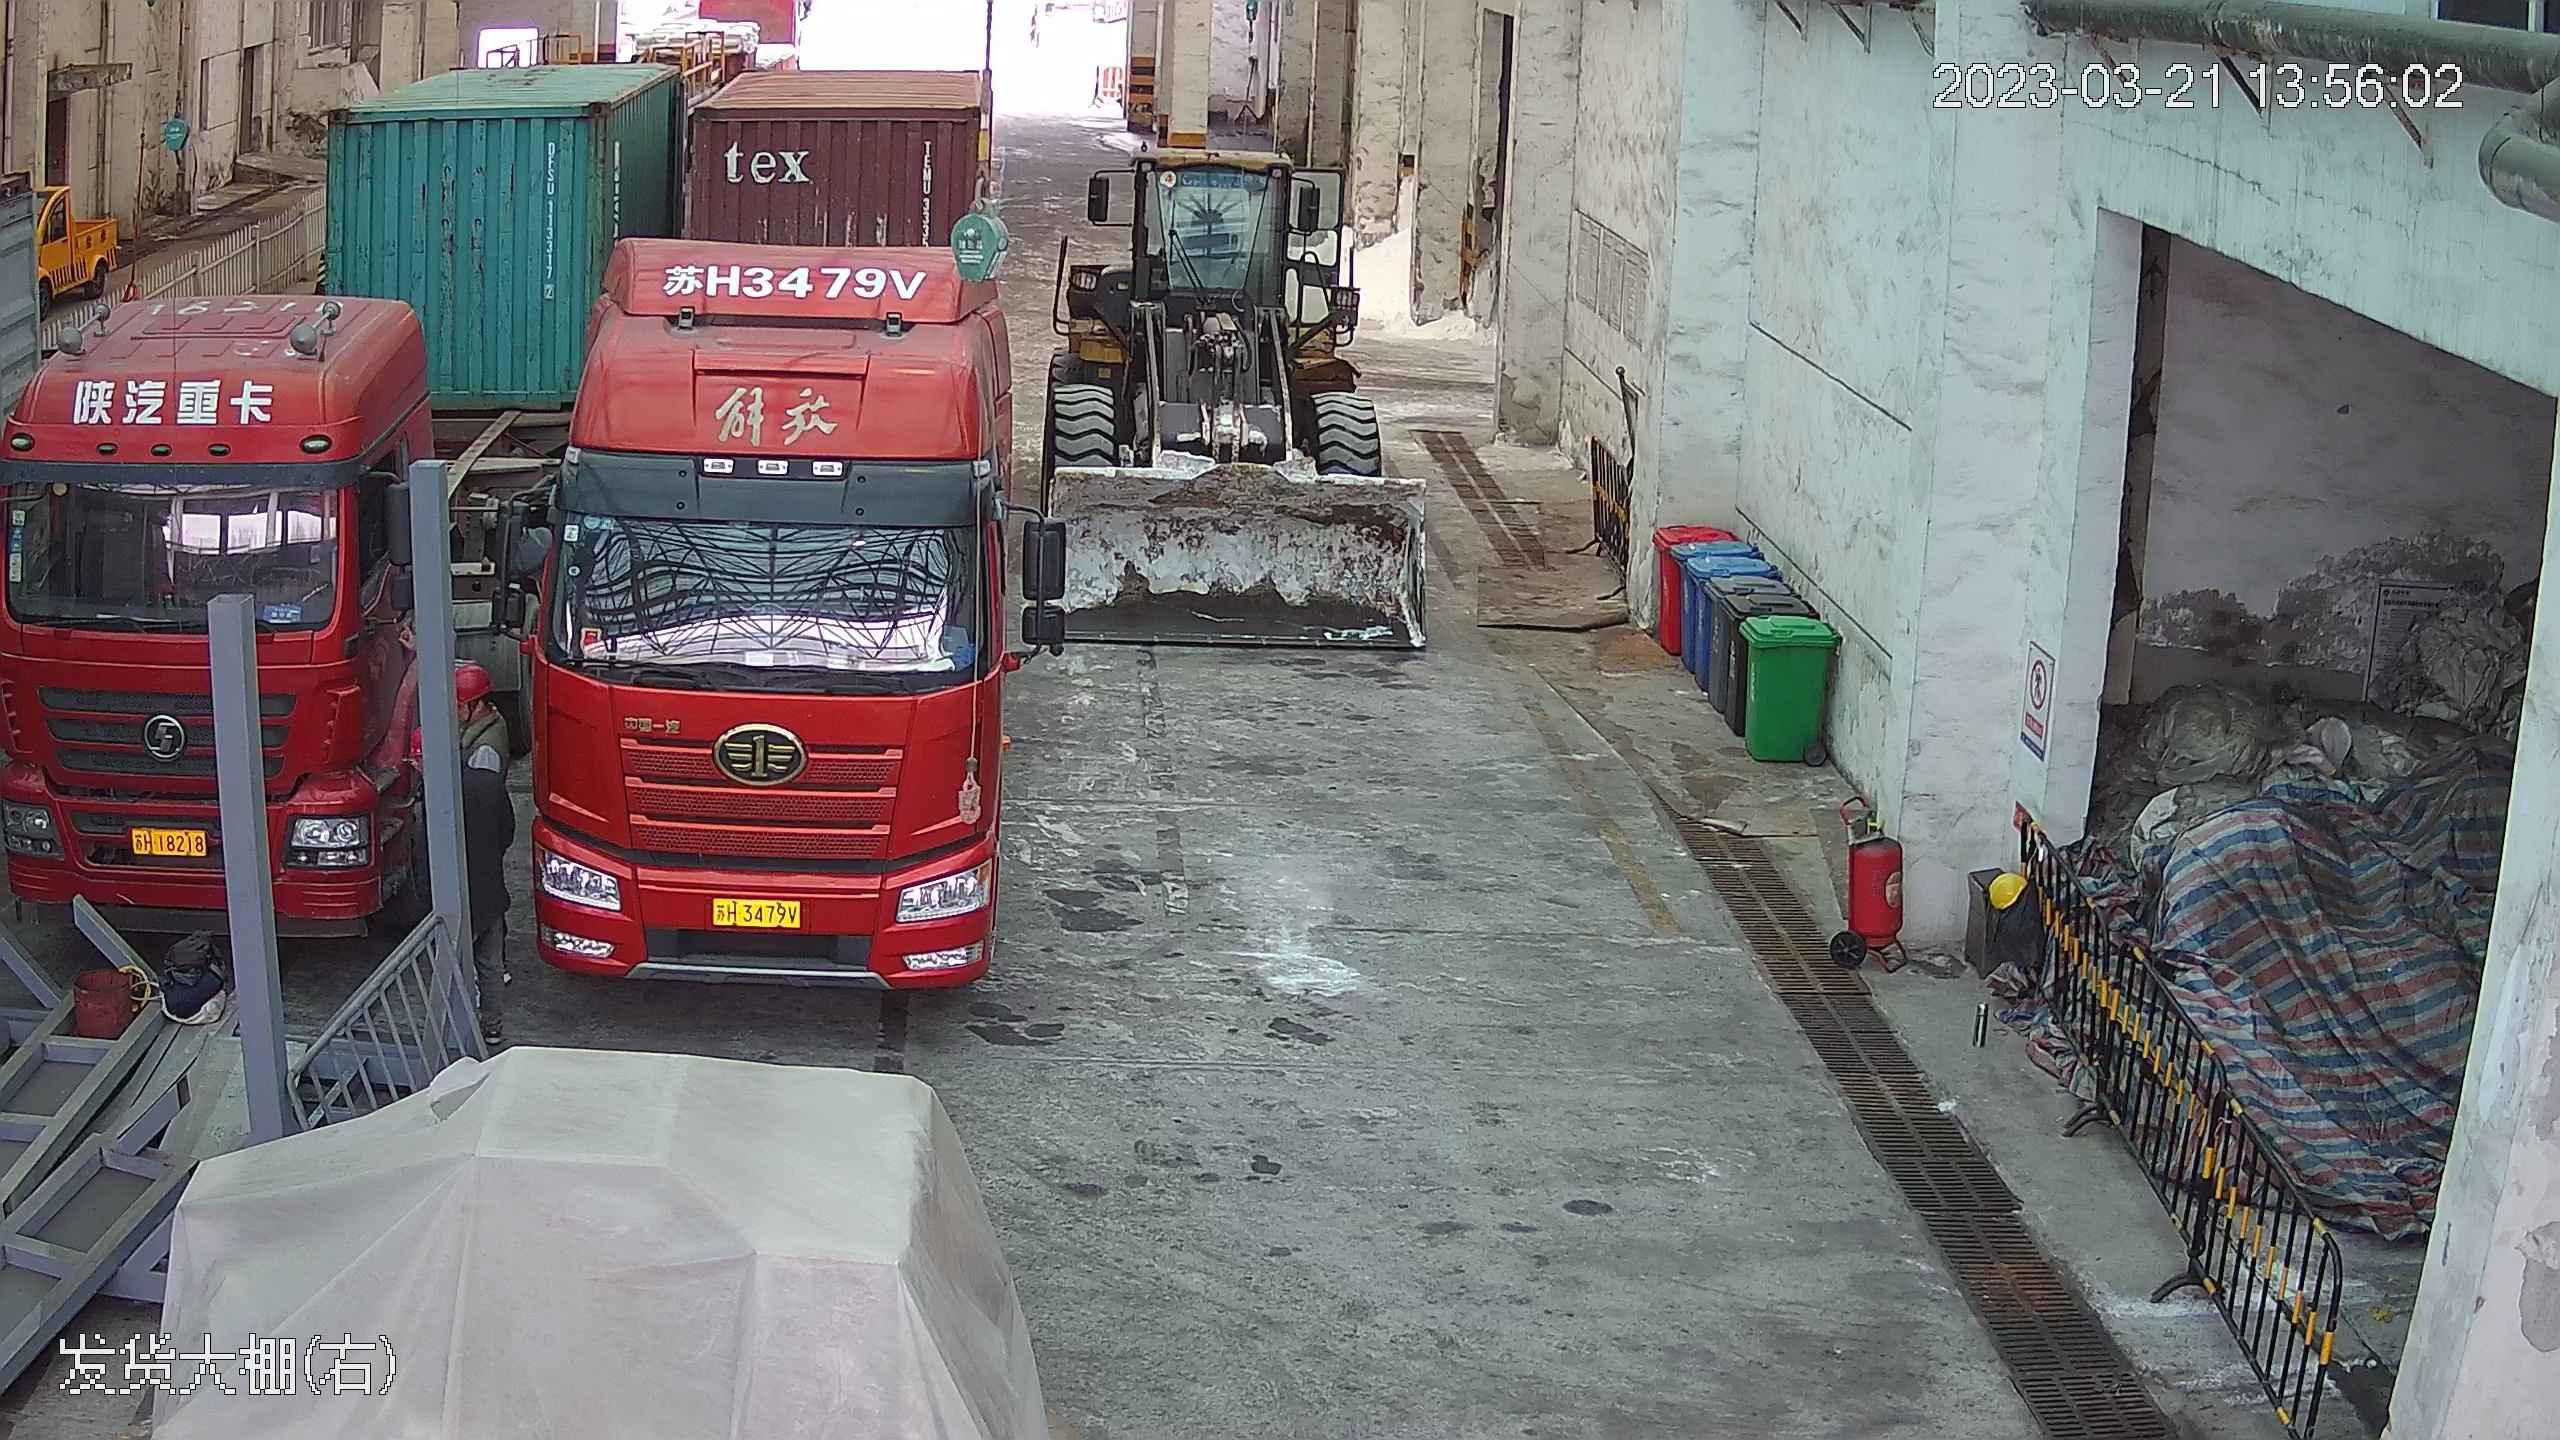head: (448, 659, 513, 758)
helmet: (451, 658, 496, 697)
people: (444, 661, 521, 974)
truck: (497, 26, 1040, 994), (1, 20, 494, 965)
